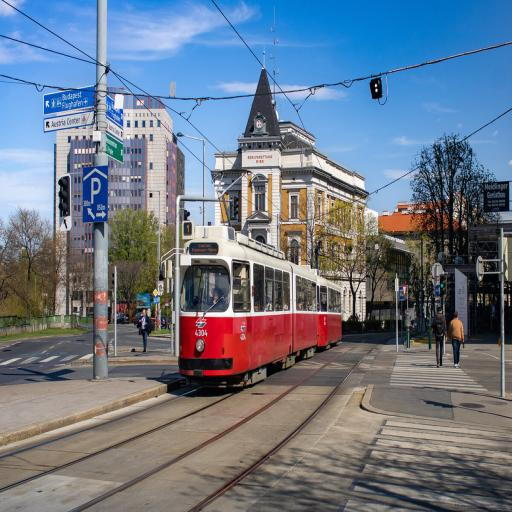E2-Tram: (176, 219, 342, 378)
